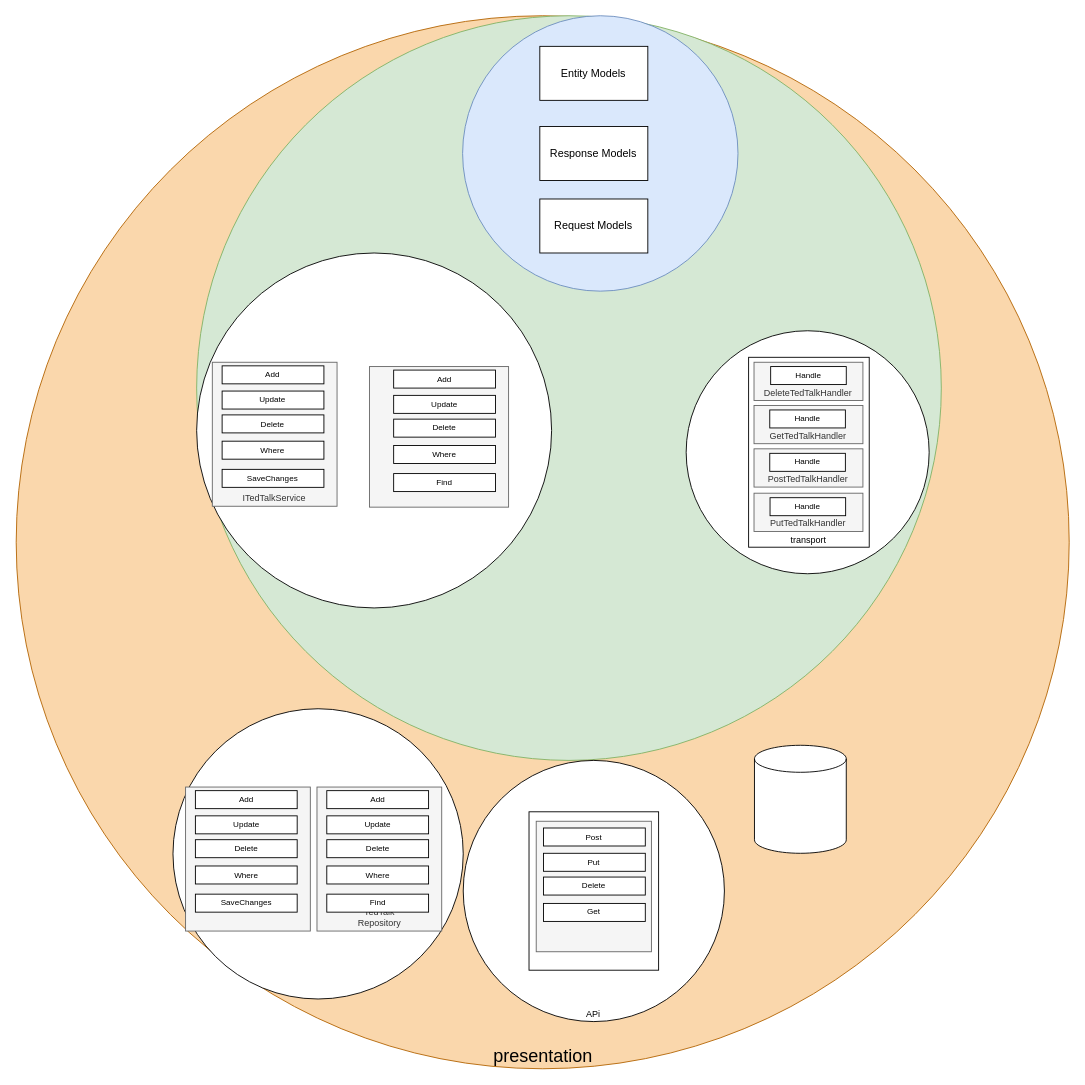
Image size: 1085x1085. Some labels were removed from this diagram. The shapes that lost their labels are listed below. From the top down, each one's box as (x1, y1, x2, y2) in pixels, then its label:
(462, 15, 738, 291): Core
(196, 15, 941, 760): Application
(196, 252, 552, 608): Interfaces
(369, 366, 509, 507): ITedTalkRepository
(685, 330, 929, 574): Handlers
(754, 744, 846, 853): DB
(185, 786, 310, 931): TedTalkService
(172, 708, 463, 999): Infrastructure
(535, 820, 651, 952): TedTalks
(528, 811, 659, 970): controllers
